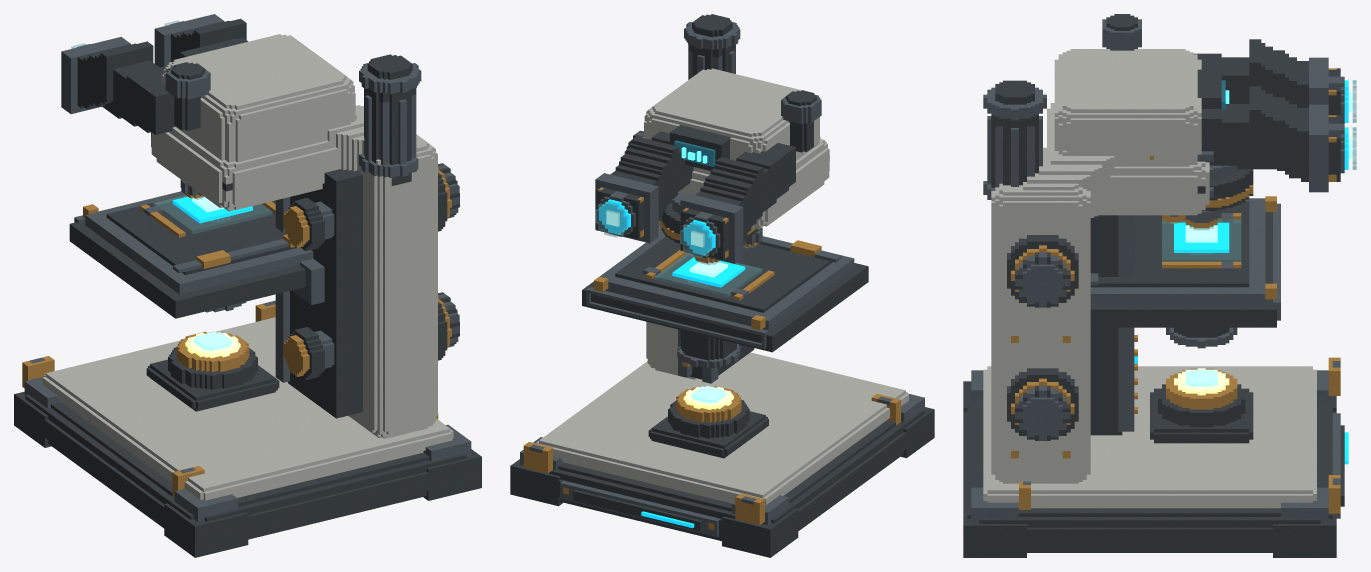
The picture shows the model from 3 angles, left to right: view 1: azimuth 30°, elevation 25°; view 2: azimuth 150°, elevation 25°; view 3: azimuth 270°, elevation 25°; orthographic projection. The views are drawn at different scales.
Visible parts, largest first — view 1: 显微观察设备; view 2: 显微观察设备; view 3: 显微观察设备.
Part boxes in pixels (box(x1,y1,x2,y2)): 显微观察设备: box(14, 14, 481, 557); 显微观察设备: box(510, 14, 934, 557); 显微观察设备: box(963, 14, 1356, 557).
Size of the model in its own units: 0.44 by 0.605 by 0.495.
Materials: 10 (10 with a texture image).
